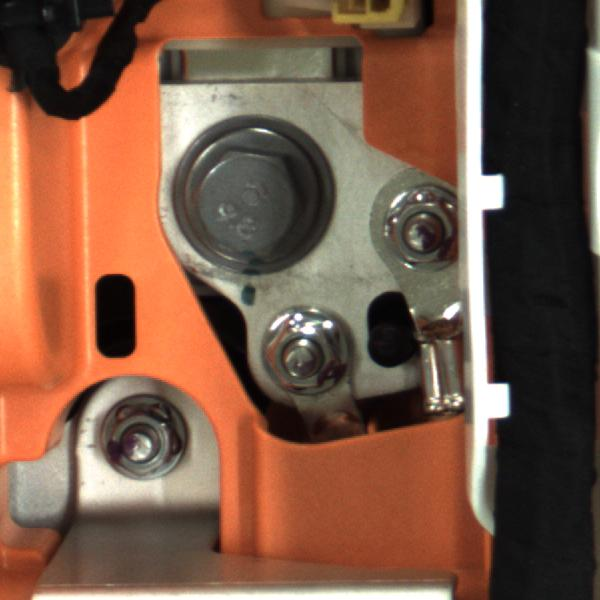nut_b: (165, 114, 340, 272)
screw_s: (251, 308, 353, 406), (96, 394, 188, 486), (376, 193, 479, 271)
